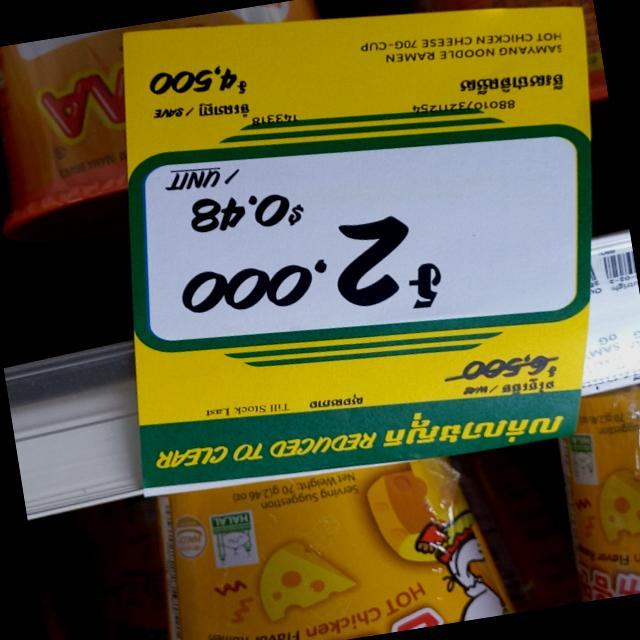198: (178, 189, 301, 242)
588: (238, 106, 305, 131)
644: (180, 213, 421, 325)
756: (138, 64, 240, 99)
810: (461, 351, 557, 384)
826: (402, 37, 422, 52)
856: (407, 98, 521, 116)
893: (450, 71, 577, 99)
Yolov11kh: (380, 401, 570, 459), (492, 375, 561, 400), (306, 393, 376, 416), (197, 100, 254, 122)
